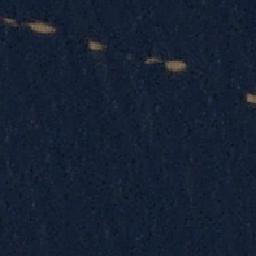debris: (25, 21, 57, 34), (139, 52, 166, 66), (164, 59, 188, 74), (84, 40, 105, 53), (243, 91, 256, 104), (1, 16, 16, 25)
